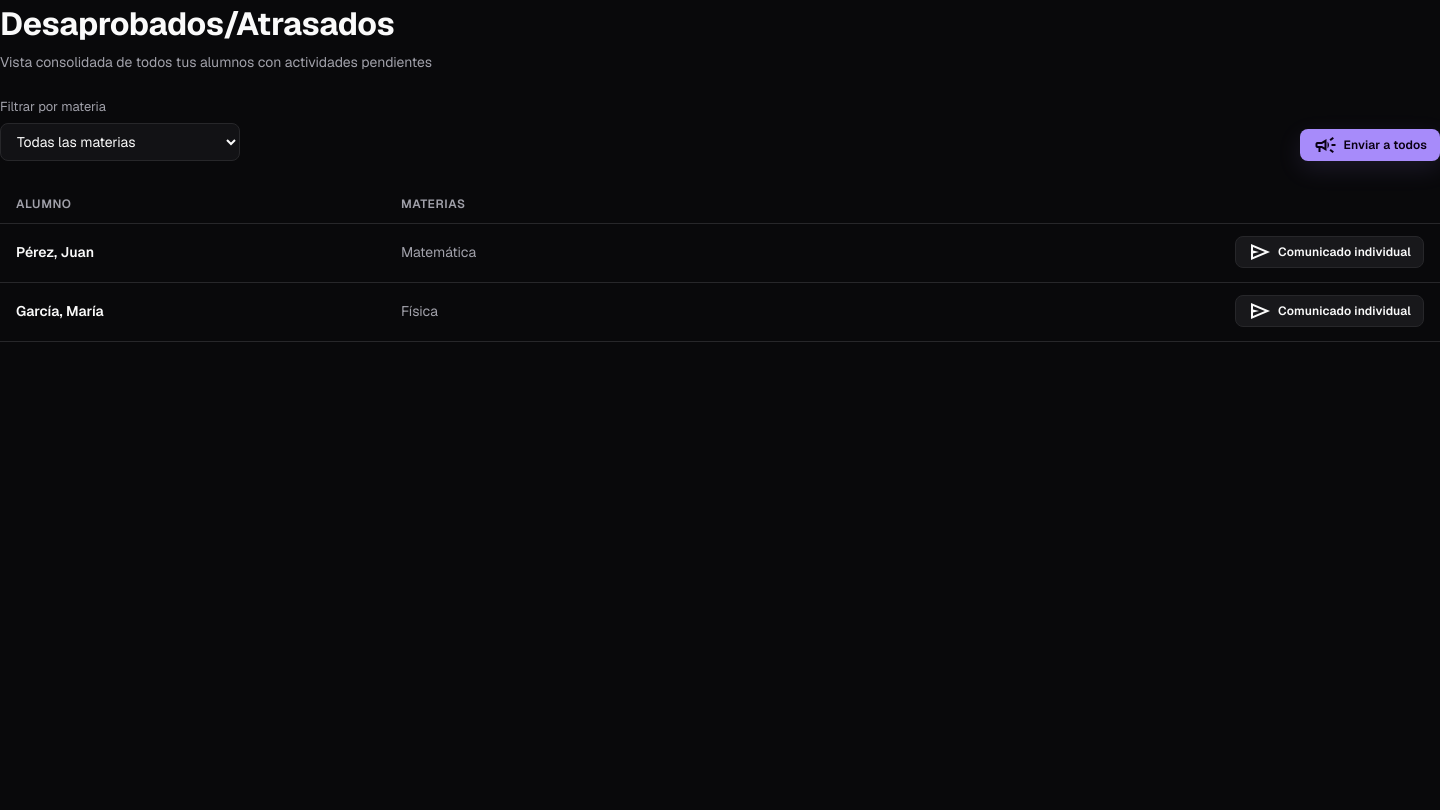
Test: AtrasadosGeneralPage — comunicado buttons › 5.2 clicking a per-row button opens a form for that alumno
Note: Click the first row's "Enviar comunicado" button
Click the button "Comunicado individual" in the row of "Pérez" at (1330, 252), box [1235,236,1424,268]
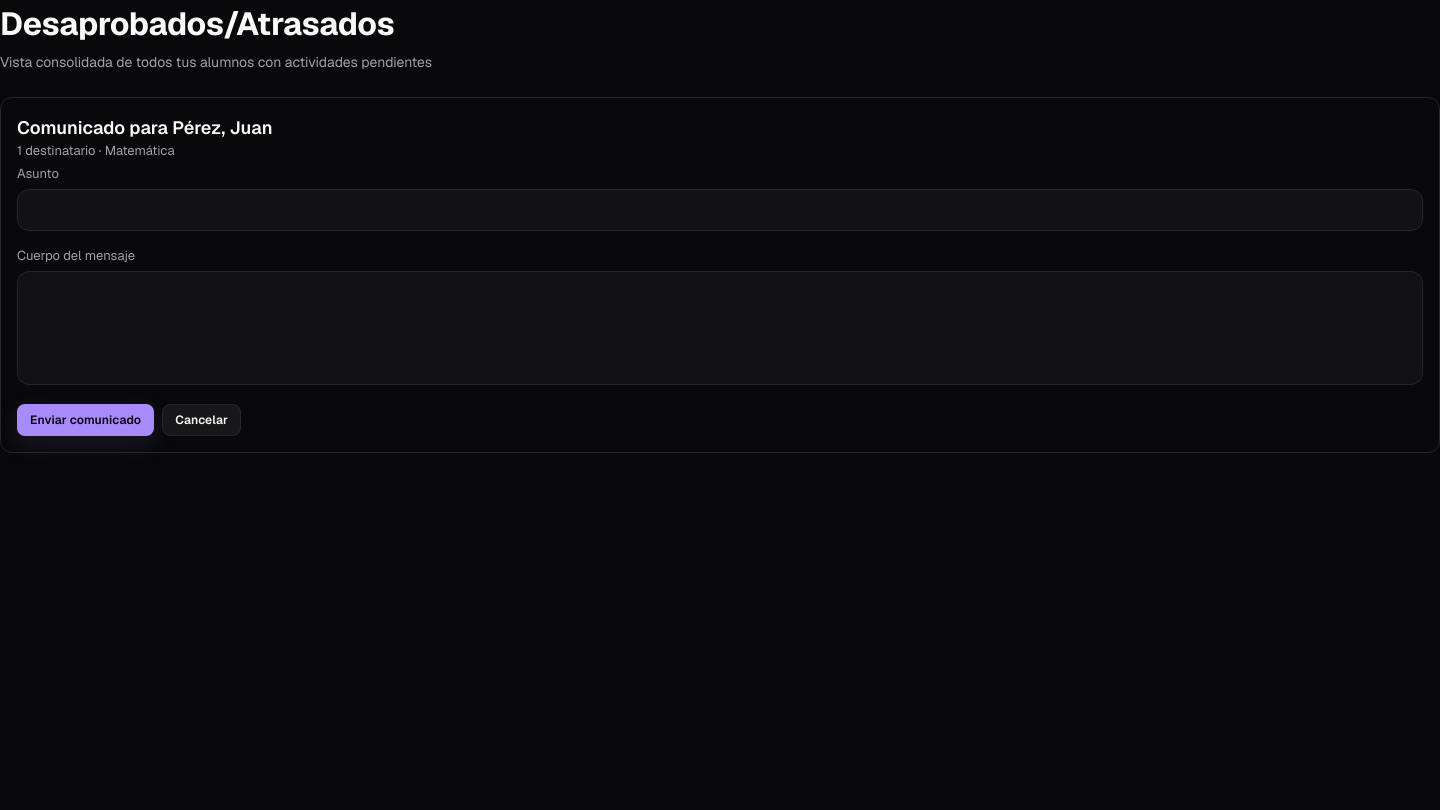
Now the dialog is shown, box [0,97,1439,452]
